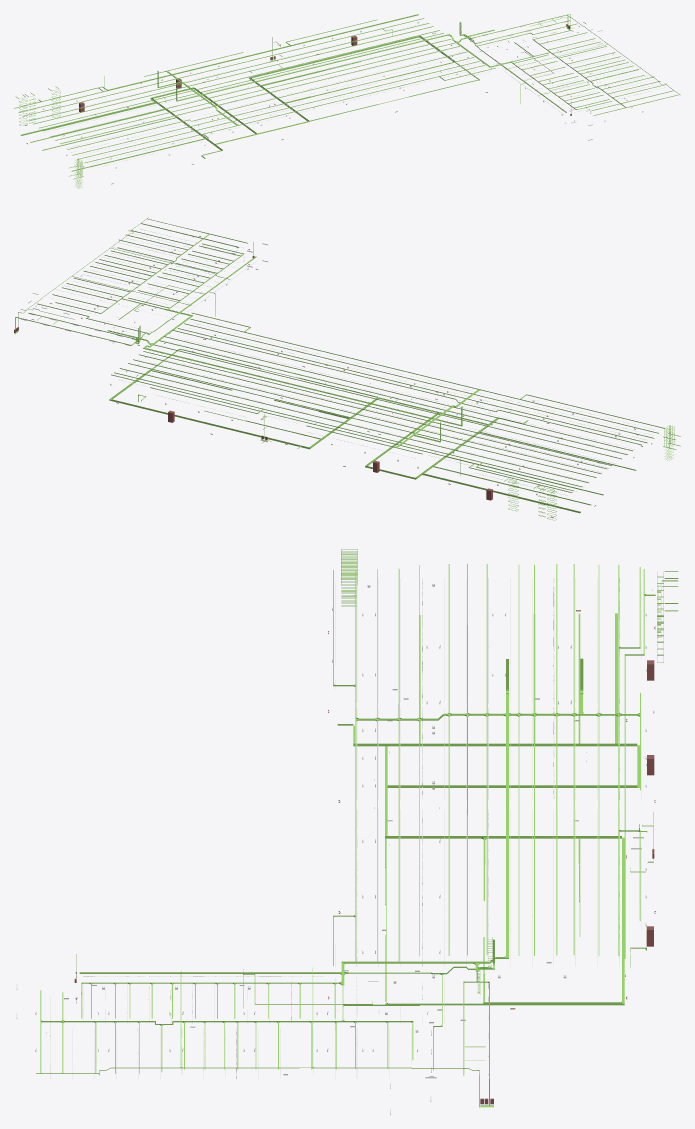
File: detail-electrical-3-2f.glb
The picture shows the model from 3 angles, top to bottom: view 1: azimuth 30°, elevation 25°; view 2: azimuth 150°, elevation 25°; view 3: azimuth 270°, elevation 25°; orthographic projection. The views are drawn at different scales.
Visible parts, largest first — view 1: containment, lighting; view 2: containment, lighting; view 3: containment, lighting.
Part boxes in pixels (<box>): containment: <box>14,14,680,188</box>; lighting: <box>20,16,665,168</box>; containment: <box>14,217,680,520</box>; lighting: <box>20,224,654,496</box>; containment: <box>36,549,678,1107</box>; lighting: <box>16,578,654,1114</box>.
Bounding box in the file's own units: 137 × 9.75 × 72.57.
